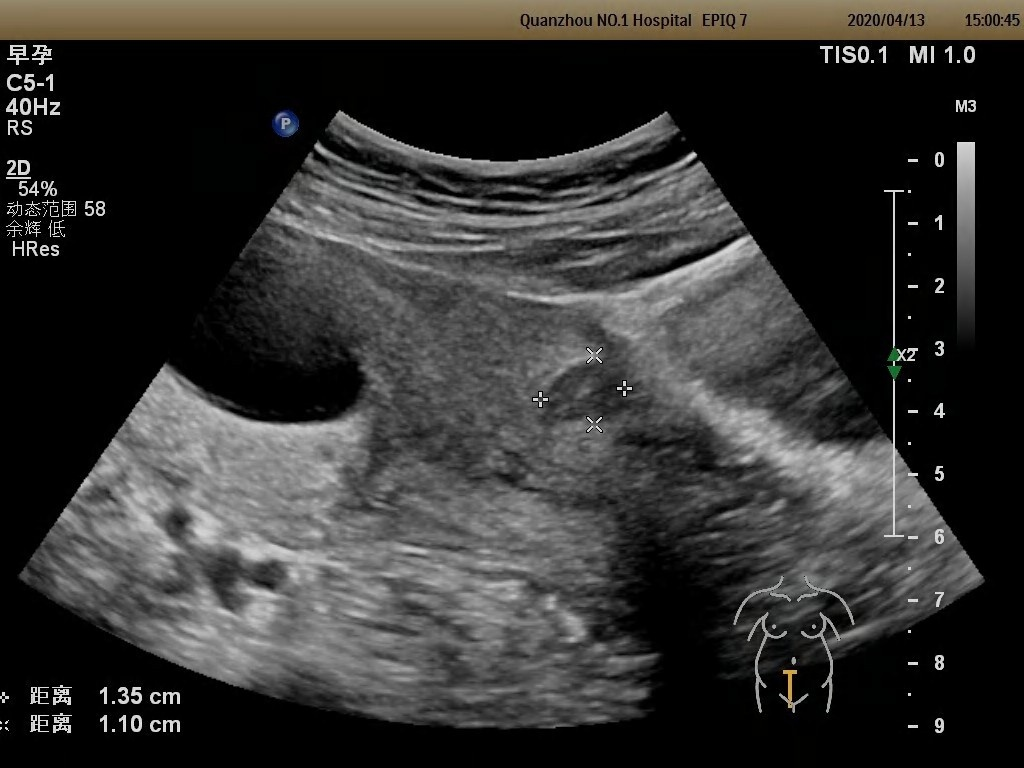肌瘤: (547, 370, 633, 419)
